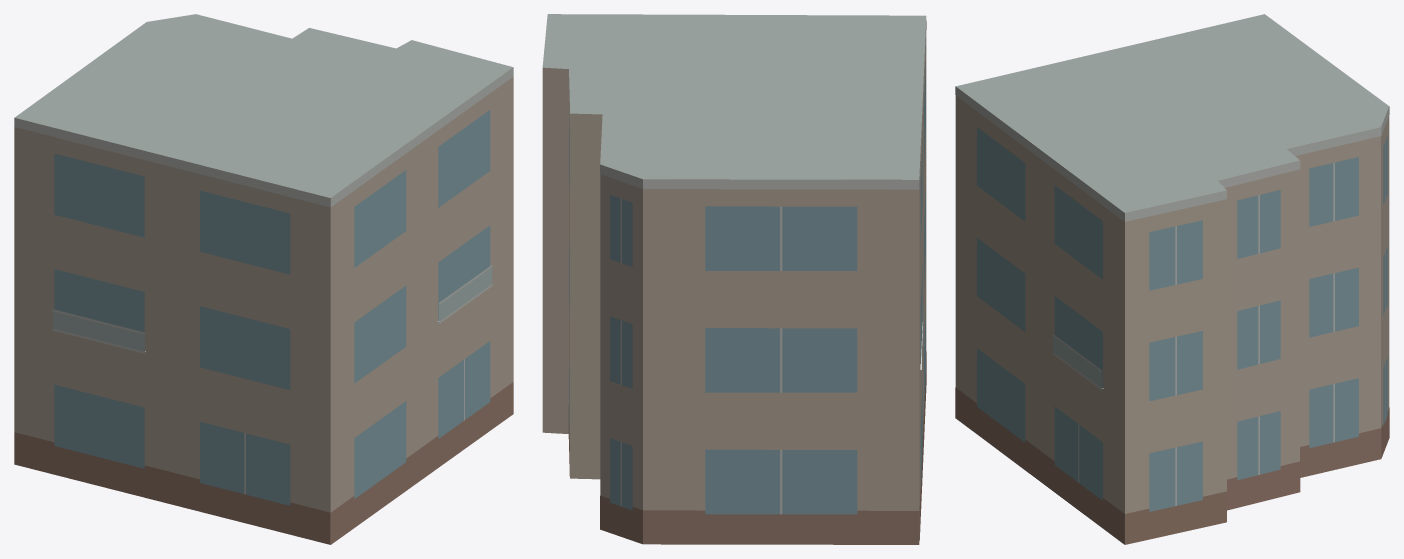
The model's file is survey-upis-32894607.glb.
The picture shows the model from 3 angles, left to right: view 1: azimuth 30°, elevation 25°; view 2: azimuth 150°, elevation 25°; view 3: azimuth 270°, elevation 25°; orthographic projection. The views are drawn at different scales.
Parts seen in each view (by area): view 1: survey-upis-32894607.tmp; view 2: survey-upis-32894607.tmp; view 3: survey-upis-32894607.tmp.
Boxes of the visible parts, bbox=[...] form: survey-upis-32894607.tmp: bbox=[14, 14, 513, 544]; survey-upis-32894607.tmp: bbox=[542, 14, 926, 544]; survey-upis-32894607.tmp: bbox=[955, 14, 1389, 544].
Bounding box in the file's own units: 11.78 × 9.15 × 10.85.
